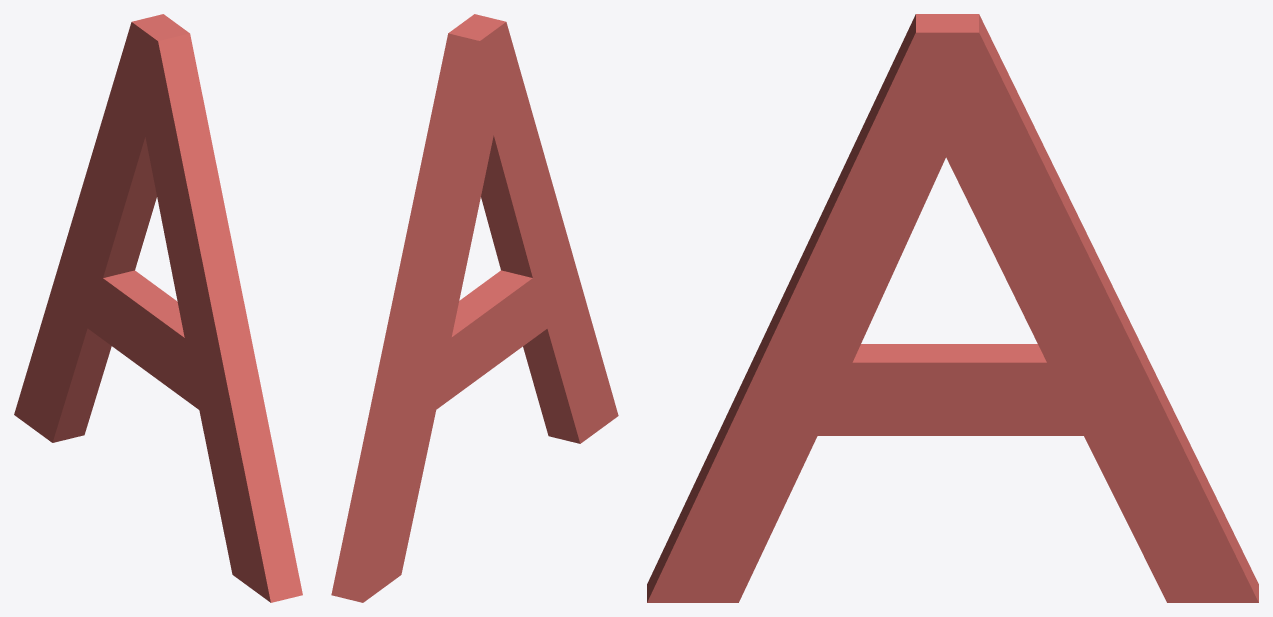
3 renders of one model, left to right at view 1: azimuth 30°, elevation 25°; view 2: azimuth 150°, elevation 25°; view 3: azimuth 270°, elevation 25°, orthographic. The views are drawn at different scales.
Parts seen in each view (by area): view 1: テキスト; view 2: テキスト; view 3: テキスト.
Boxes of the visible parts, box(x1,y1,x2,y2) form: テキスト: box(14, 14, 302, 602); テキスト: box(331, 14, 618, 602); テキスト: box(647, 14, 1258, 602).
Bounding box in the file's own units: 0.0479 × 0.686 × 0.667.
